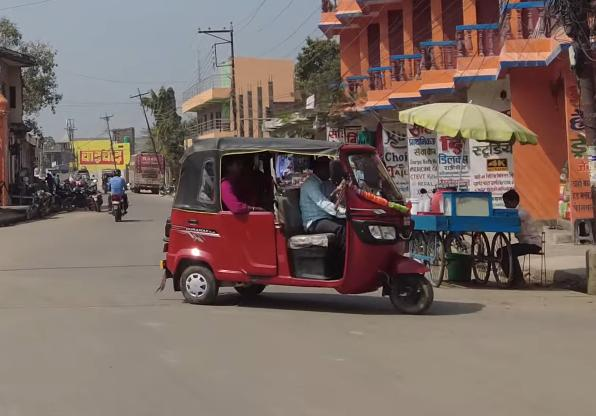auto_rickshaw: (155, 134, 440, 321)
bike: (104, 182, 132, 224)
